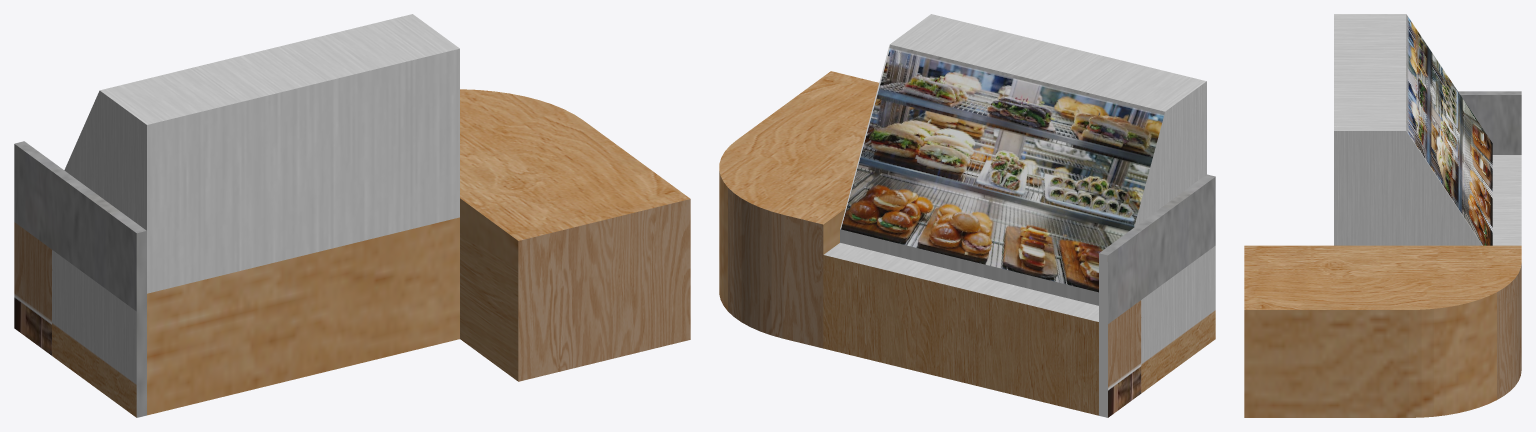
Rendered from counterdisplay.fbx.
The picture shows the model from 3 angles, left to right: view 1: azimuth 30°, elevation 25°; view 2: azimuth 150°, elevation 25°; view 3: azimuth 270°, elevation 25°; orthographic projection. The views are drawn at different scales.
Visible parts, largest first — view 1: Cube.006; view 2: Cube.006; view 3: Cube.006.
Boxes of the visible parts, bbox=[...] form: Cube.006: bbox=[14, 14, 690, 417]; Cube.006: bbox=[719, 14, 1215, 417]; Cube.006: bbox=[1244, 14, 1521, 417].
Bounding box in the file's own units: 3.35 × 1.87 × 2.12.
